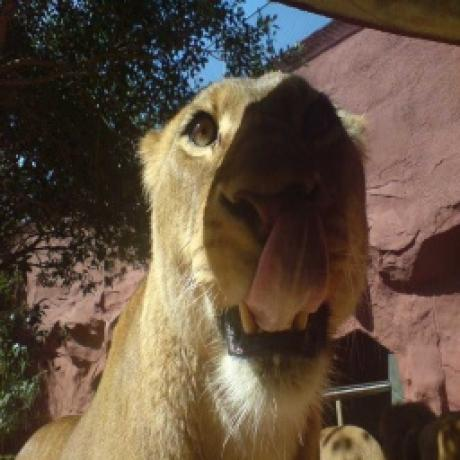Lion: (9, 69, 378, 460)
